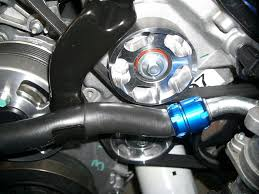radiator_hose: (2, 96, 245, 152)
